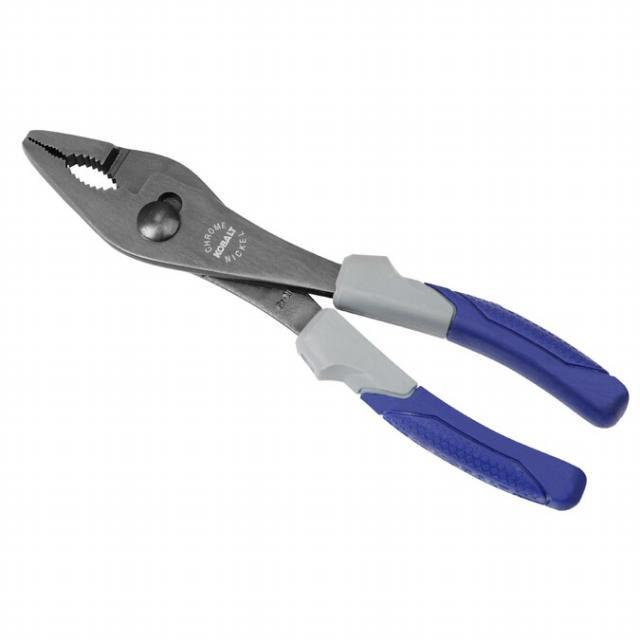pliers: (16, 120, 634, 517)
